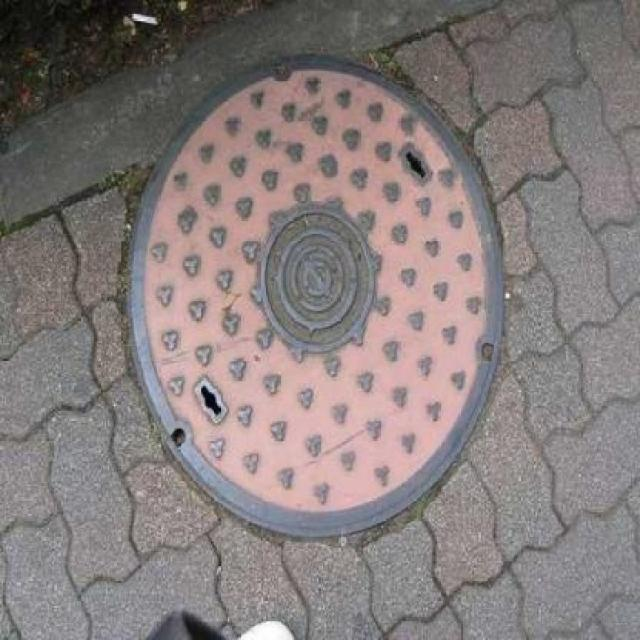Manhole: (124, 49, 513, 542)
